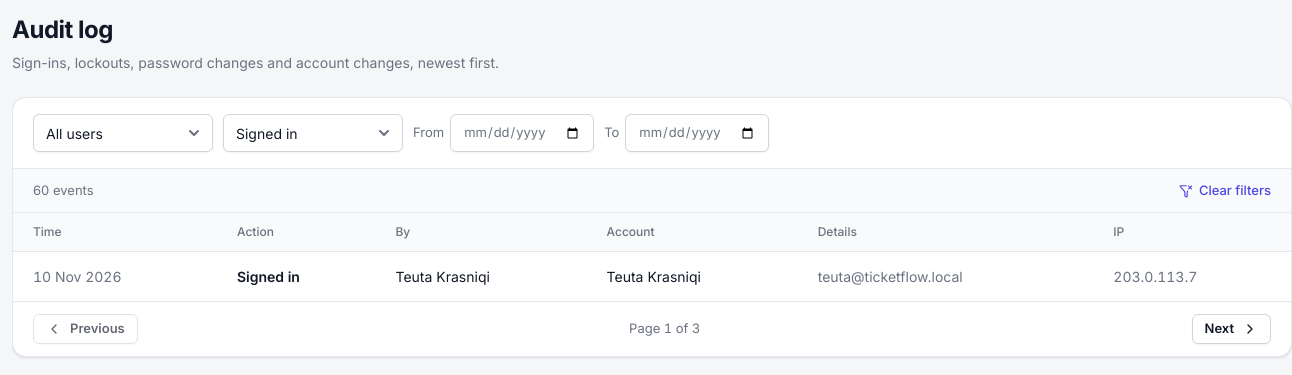
Test case: AuditLog › pagination › "Page X of Y" from total and pageSize; Previous/Next move one page and keep the filters
Expected: the table is shown, x1=13 y1=213 x2=1291 y2=301
Expected: the text "Page 1 of 3" is shown, x1=629 y1=319 x2=700 y2=339
Click the button "Next".
click(1231, 329)  # box x1=1192 y1=314 x2=1271 y2=344
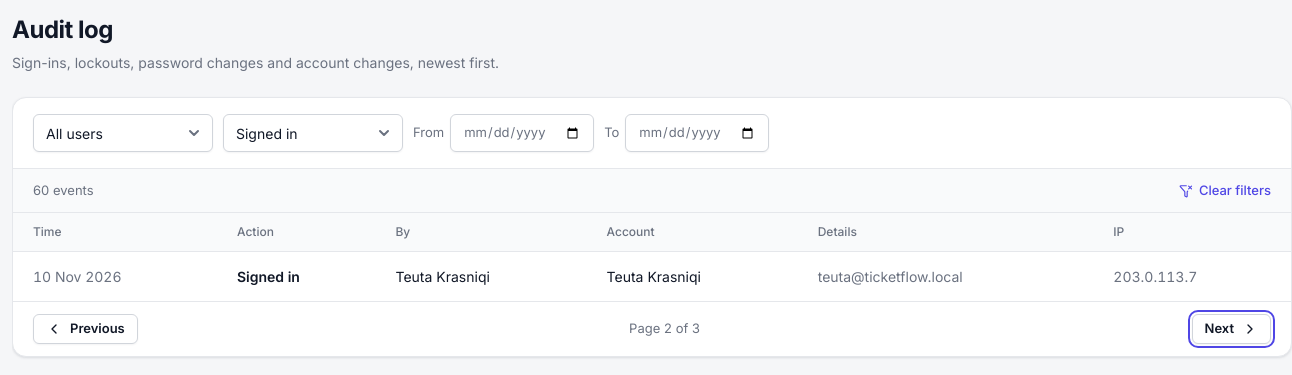
Expected: the text "Page 2 of 3" is shown, x1=629 y1=319 x2=700 y2=339
Click the button "Next".
click(1231, 329)  # box x1=1192 y1=314 x2=1271 y2=344
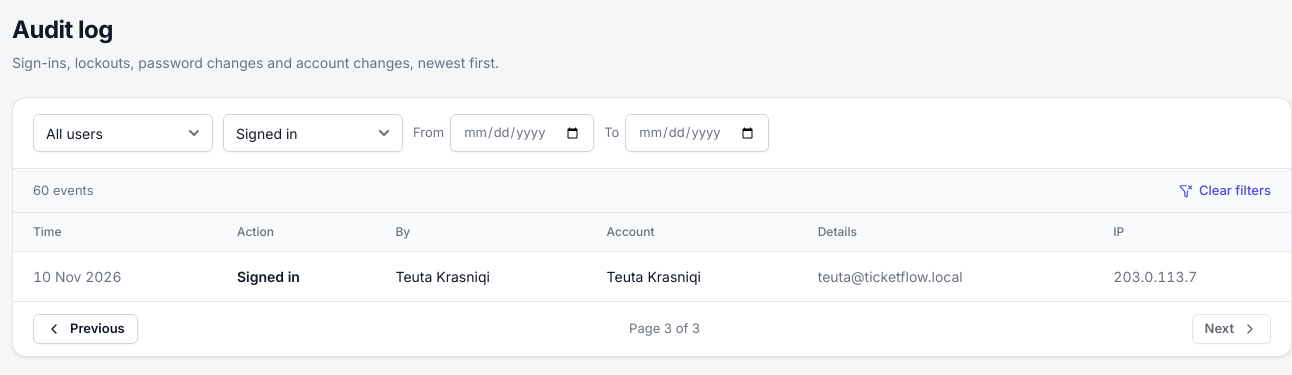
Expected: the text "Page 3 of 3" is shown, x1=629 y1=319 x2=700 y2=339
Expected: the button "Next" is disabled, x1=1192 y1=314 x2=1271 y2=344
Click the button "Previous".
click(85, 329)  # box x1=33 y1=314 x2=138 y2=344
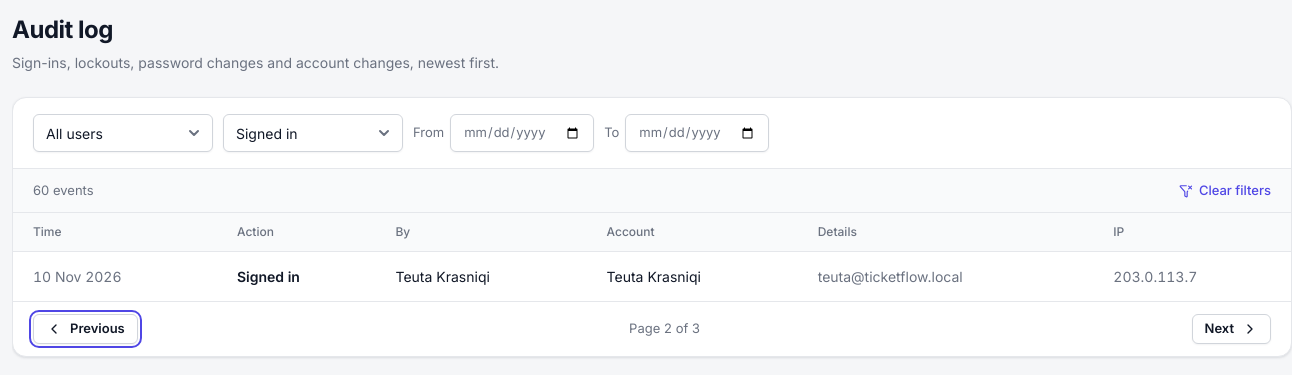
Expected: the text "Page 2 of 3" is shown, x1=629 y1=319 x2=700 y2=339
